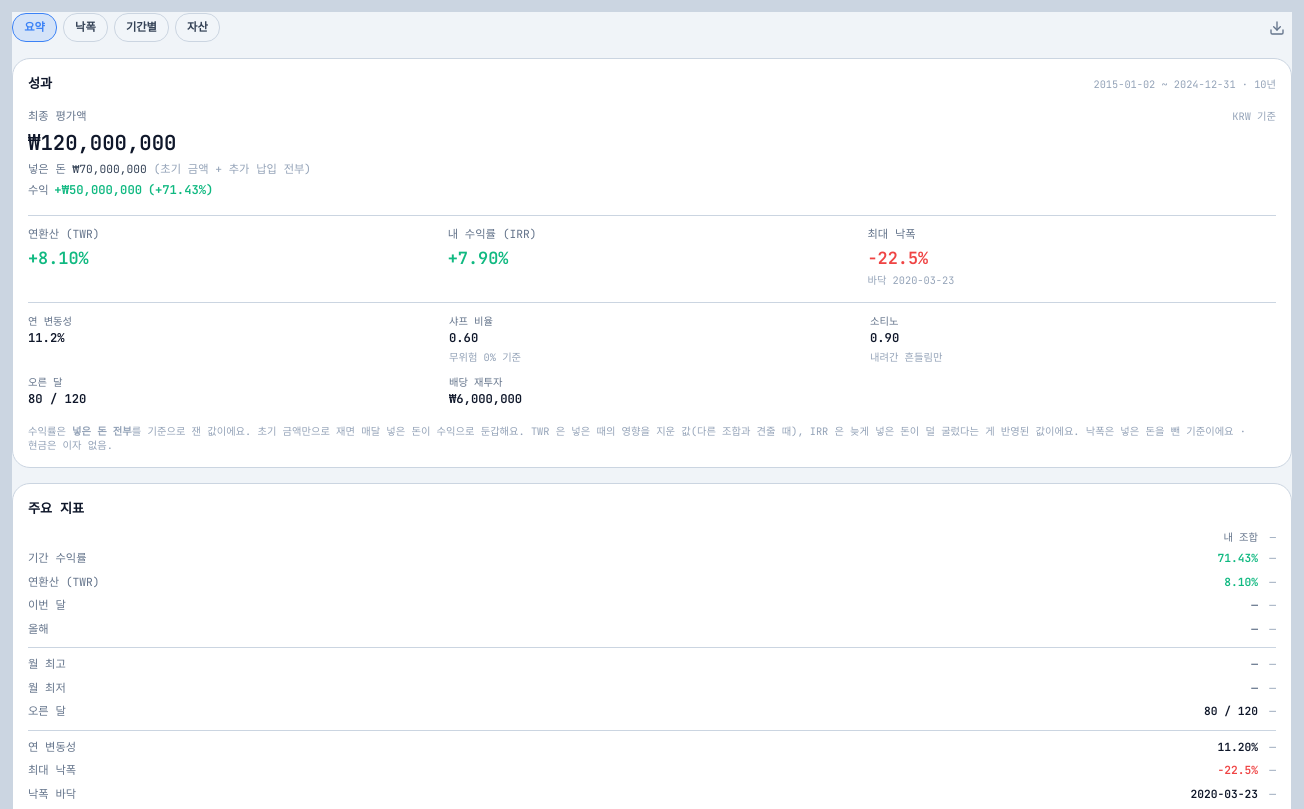
Scenario: 자산마다 — 누가 얼마를 벌었나 › 자산 탭에 있다 — 비중·따로 들고 있었으면·번 돈
Check: the text "자산마다" is not shown
Click the tab "자산". click: click(197, 28)
box: [175,13,220,42]
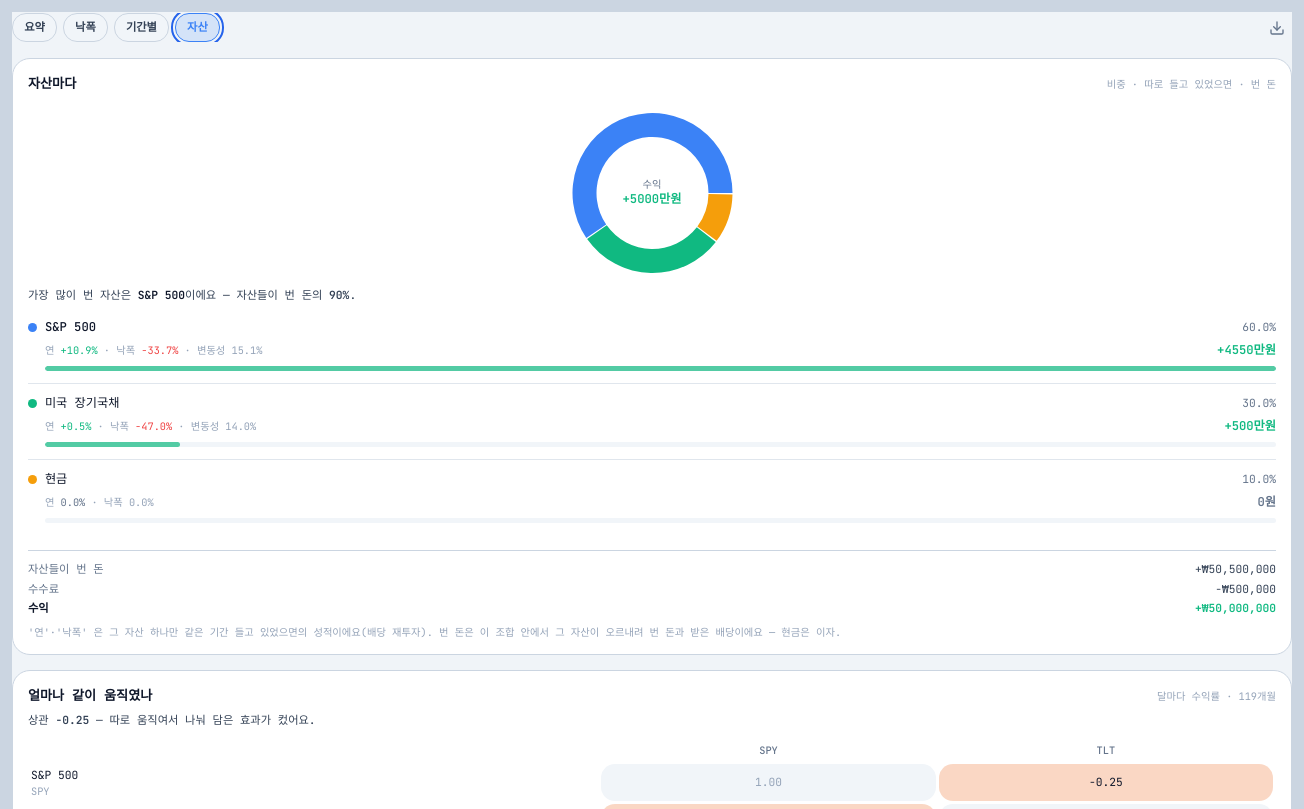
Check: the text "60.0%" is shown, box [1242,320,1276,336]
Check: the text "30.0%" is shown, box [1242,396,1276,412]
Check: the text "10.0%" is shown, box [1242,472,1276,488]
